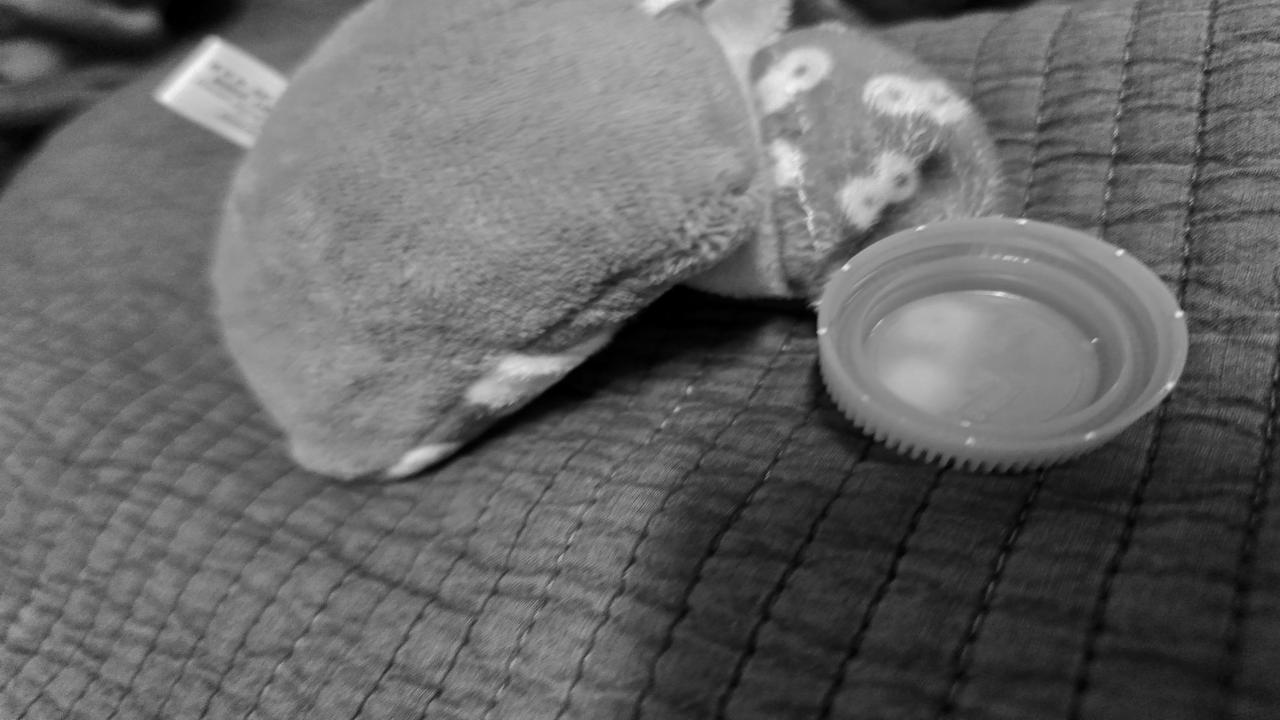bottle_cap: (818, 218, 1186, 467)
